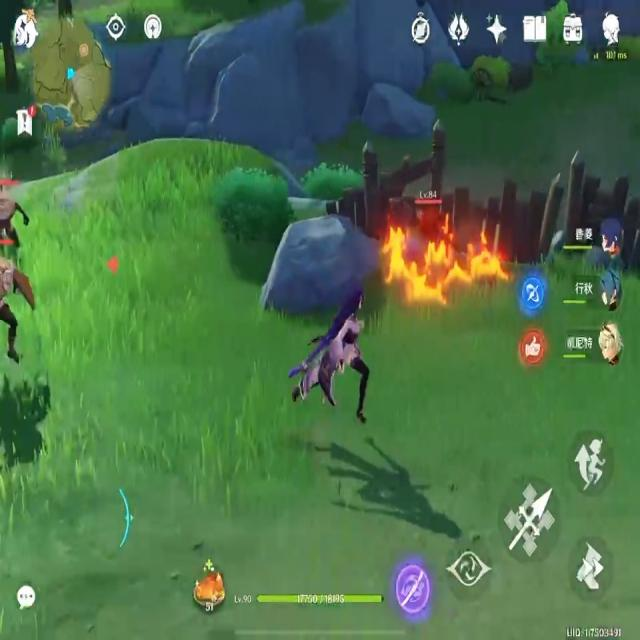genshin-hilichurls: (0, 237, 37, 388), (417, 190, 445, 252), (1, 172, 26, 229)
